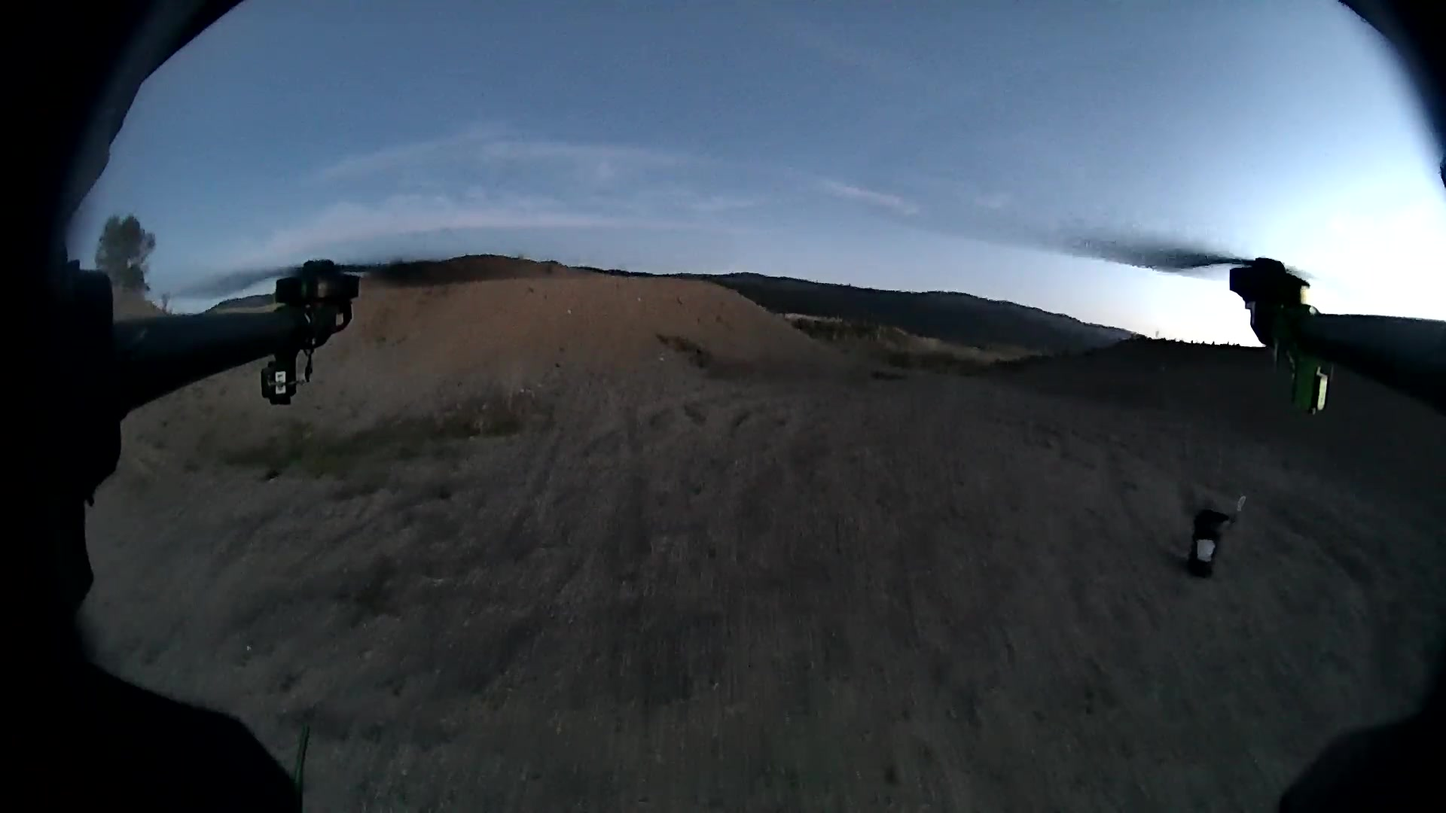Target: (1197, 539, 1214, 559)
